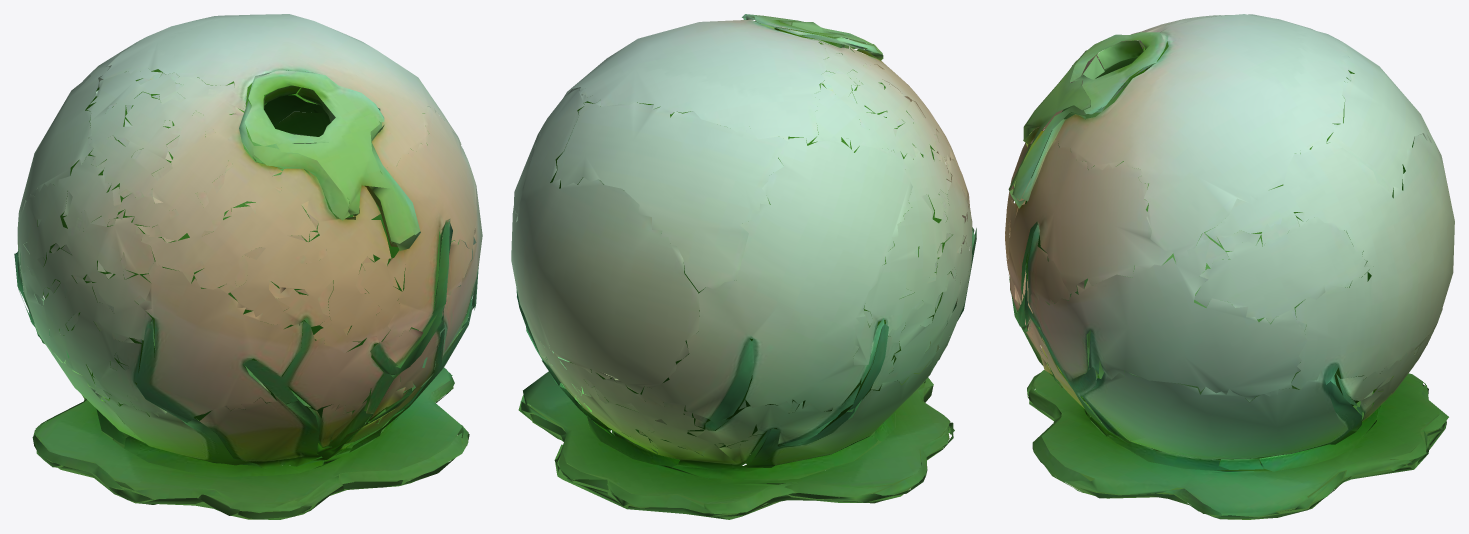
File: pus.glb
The picture shows the model from 3 angles, left to right: view 1: azimuth 30°, elevation 25°; view 2: azimuth 150°, elevation 25°; view 3: azimuth 270°, elevation 25°; orthographic projection.
Visible parts, largest first — view 1: pus; view 2: pus; view 3: pus.
Boxes of the visible parts, box(x1,y1,x2,y2) form: pus: box(14, 14, 482, 519); pus: box(511, 14, 976, 519); pus: box(1005, 14, 1454, 519).
Size of the model in its own units: 0.8933 by 0.8321 by 0.8742.
Materials: 1 (1 with a texture image).
